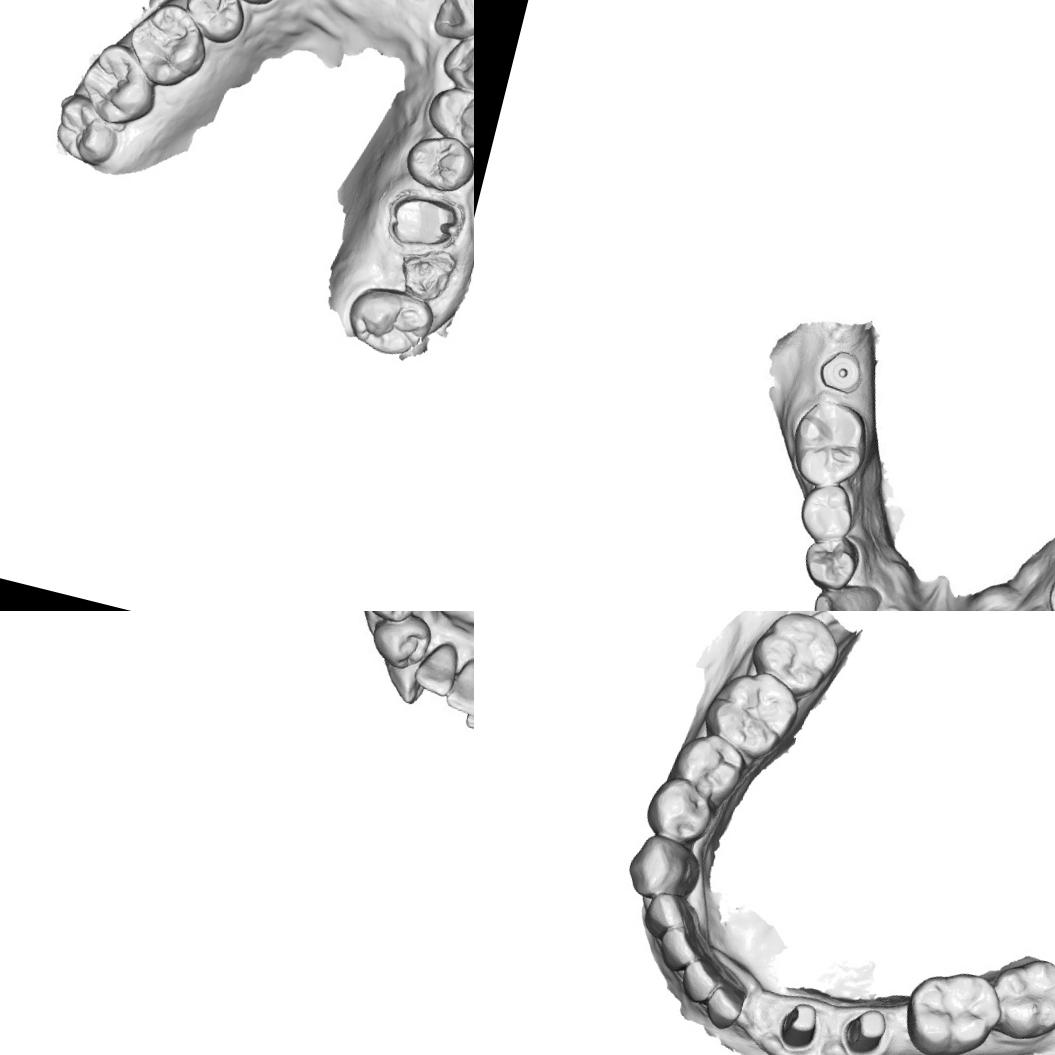abutment: (773, 995, 825, 1053), (839, 1003, 890, 1055)
canine: (618, 828, 706, 909), (378, 653, 430, 711), (805, 573, 883, 611), (437, 23, 474, 94)
crown: (383, 188, 462, 256)
implant: (815, 344, 866, 396)
incisor: (638, 886, 702, 946), (408, 636, 460, 700), (650, 918, 704, 976), (695, 979, 748, 1033), (673, 952, 722, 1006), (427, 0, 474, 48), (443, 657, 474, 716), (459, 670, 474, 742)
molar: (697, 659, 808, 767), (896, 956, 1007, 1055), (742, 611, 849, 704), (782, 392, 876, 494), (979, 945, 1055, 1051), (341, 280, 436, 362), (74, 42, 162, 130), (127, 2, 204, 86), (48, 94, 122, 170)
premolar: (664, 725, 748, 808), (638, 768, 722, 848), (400, 126, 474, 196), (364, 611, 440, 679), (792, 476, 860, 548), (797, 528, 863, 595), (420, 80, 474, 150), (176, 0, 251, 47), (357, 611, 430, 628)
